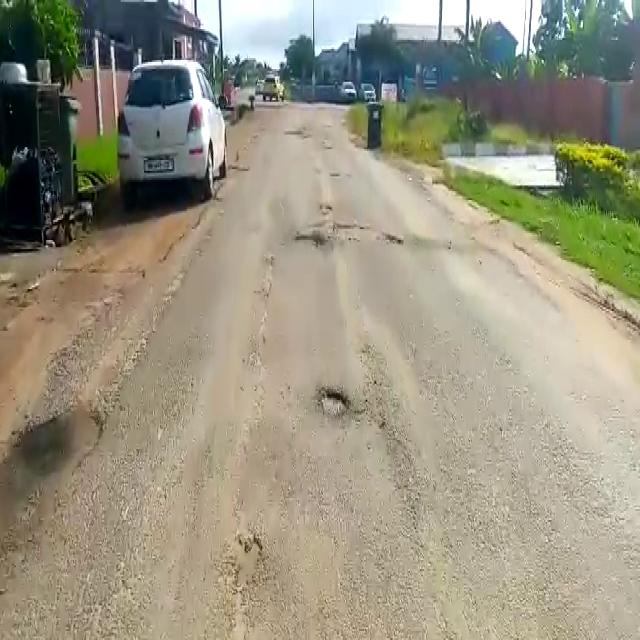Pothole: (331, 222, 406, 246), (314, 388, 357, 420), (292, 229, 328, 248)
